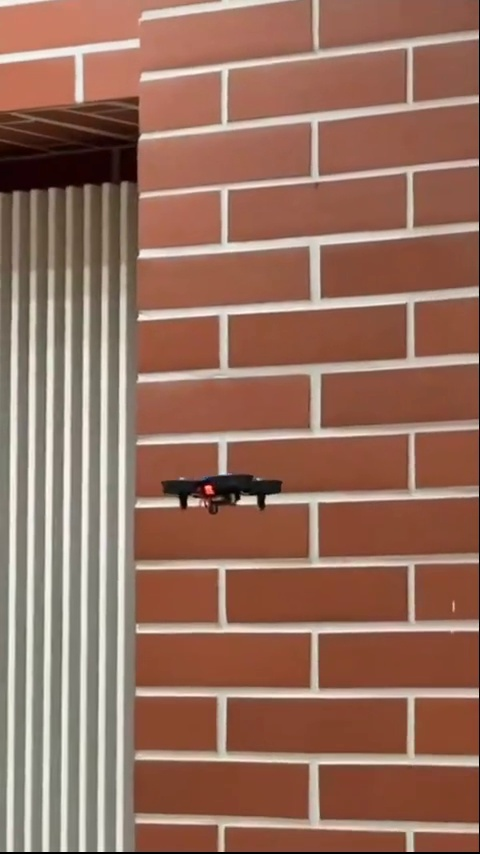drone: (158, 471, 291, 520)
